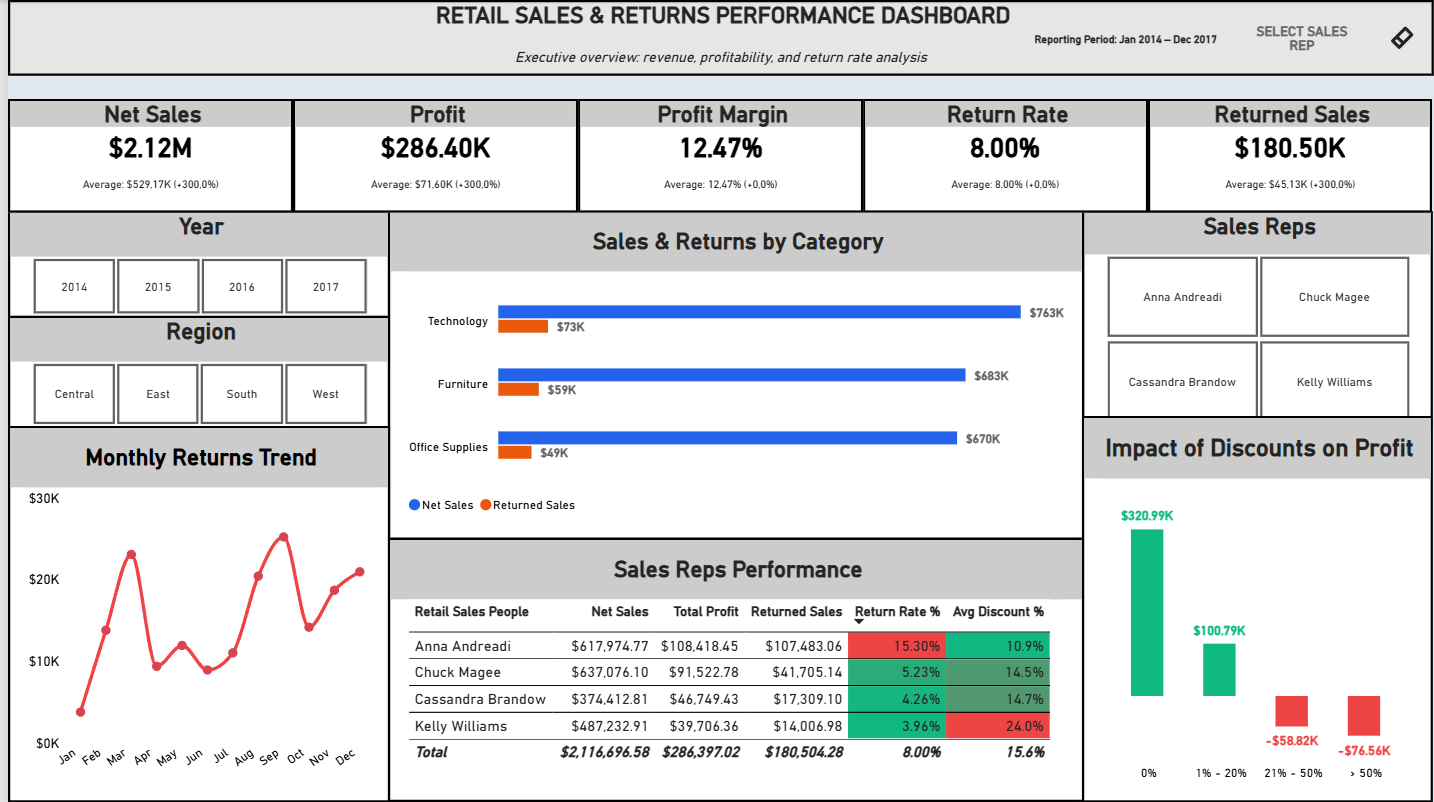

This screenshot's page, from the dashboard's own definition file:
{"tool":"powerbi","page":{"name":"Executive Overview","canvas":[1280,720],"ordinal":0},"visuals":[{"type":"slicer","title":"Sales Reps","fields":{"Values":["Retails Order Full Dataset.Retail Sales People"]},"box":[963.9,189.7,315,192.6],"z":0},{"type":"slicer","title":"Year","fields":{"Values":["Calendar Table.Year"]},"box":[0,189.4,343,96],"z":1000},{"type":"slicer","title":"Region","fields":{"Values":["Retails Order Full Dataset.Region"]},"box":[0,283.7,342.9,101],"z":2000},{"type":"clusteredBarChart","title":"Sales & Returns by Category","fields":{"Category":["Retails Order Full Dataset.Category","Retails Order Full Dataset.Sub-Category"],"Y":["_Measures.Net Sales","_Measures.Returned Sales"]},"box":[341.4,188.7,625,295.7],"z":3000},{"type":"lineChart","title":"Monthly Returns Trend","fields":{"Category":["Calendar Table.Month Name"],"Y":["_Measures.Returned Sales"]},"box":[0,382.4,342.9,338],"z":4000},{"type":"tableEx","title":"Sales Reps Performance","fields":{"Values":["Retails Order Full Dataset.Retail Sales People","_Measures.Net Sales","_Measures.Total Profit","_Measures.Returned Sales","_Measures.Return Rate %","_Measures.Avg Discount"]},"box":[341.1,483,625,237],"z":5000},{"type":"columnChart","title":"Impact of Discounts on Profit","fields":{"Category":["Retails Order Full Dataset.Discount Band"],"Y":["_Measures.Total Profit"]},"box":[964.2,373.5,315,347],"z":6000},{"type":"cardVisual","title":"Return Rate","fields":{"Data":["_Measures.Return Rate %"]},"box":[767.6,88.9,255.9,102],"z":7000},{"type":"cardVisual","title":"Profit Margin","fields":{"Data":["_Measures.Profit Margin %"]},"box":[512,89,256,102],"z":8000},{"type":"cardVisual","title":"Returned Sales","fields":{"Data":["_Measures.Returned Sales"]},"box":[1023,89,255,102],"z":9000},{"type":"cardVisual","title":"Net Sales","fields":{"Data":["_Measures.Net Sales"]},"box":[0,89,256,102],"z":10000},{"type":"cardVisual","title":"Profit","fields":{"Data":["_Measures.Total Profit"]},"box":[256,89,256,102],"z":11000},{"type":"textbox","title":"RETAIL SALES & RETURNS PERFORMANCE DASHBOARD","box":[0,0,1280,68],"z":12000},{"type":"actionButton","box":[1223,0,57,68],"z":13000},{"type":"cardVisual","fields":{"Data":["_Measures.Reporting Period Label"]},"box":[896,0,215,68],"z":14000},{"type":"actionButton","box":[1101,9,122,50],"z":15000}]}

Visuals, with their boxes in screenshot pixels (x1, y1, x2, y2), scaled from the page's 1280x720 canvas onto the 1434x802 screenshot:
"Sales Reps" slicer: box(1080, 211, 1433, 426)
"Year" slicer: box(0, 211, 384, 318)
"Region" slicer: box(0, 316, 384, 429)
"Sales & Returns by Category" clusteredBarChart: box(382, 210, 1083, 540)
"Monthly Returns Trend" lineChart: box(0, 426, 384, 801)
"Sales Reps Performance" tableEx: box(382, 538, 1082, 801)
"Impact of Discounts on Profit" columnChart: box(1080, 416, 1433, 801)
"Return Rate" cardVisual: box(860, 99, 1147, 213)
"Profit Margin" cardVisual: box(574, 99, 860, 213)
"Returned Sales" cardVisual: box(1146, 99, 1432, 213)
"Net Sales" cardVisual: box(0, 99, 287, 213)
"Profit" cardVisual: box(287, 99, 574, 213)
"RETAIL SALES & RETURNS PERFORMANCE DASHBOARD" textbox: box(0, 0, 1433, 76)
actionButton: box(1370, 0, 1433, 76)
cardVisual - _Measures.Reporting Period Label: box(1004, 0, 1245, 76)
actionButton: box(1233, 10, 1370, 66)
